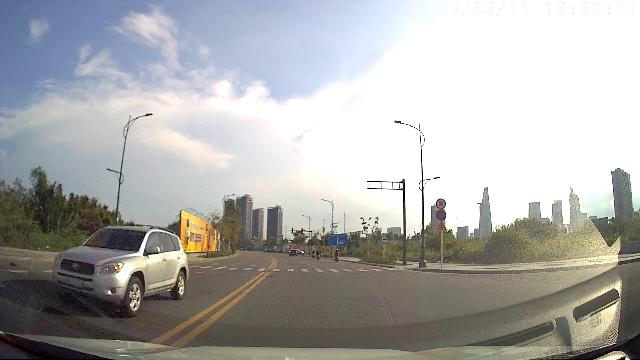127-toc-do-toi-da-50: (436, 198, 446, 209)
